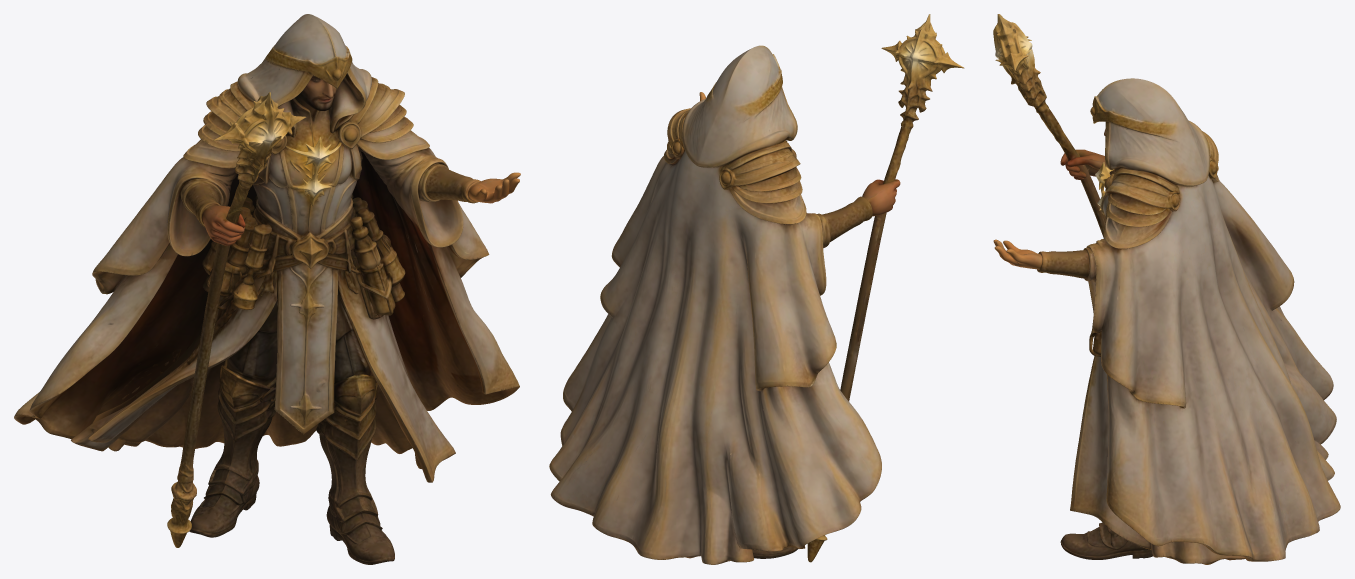
File: cleric_full_male_01.glb
The picture shows the model from 3 angles, left to right: view 1: azimuth 30°, elevation 25°; view 2: azimuth 150°, elevation 25°; view 3: azimuth 270°, elevation 25°; orthographic projection. The views are drawn at different scales.
Visible parts, largest first — view 1: material; view 2: material; view 3: material.
Boxes of the visible parts, x1,y1,x2,y2 form: material: (14, 14, 520, 564); material: (549, 14, 964, 564); material: (993, 14, 1340, 564).
Size of the model in its own units: 0.7591 by 0.9406 by 0.6241.
Materials: 1 (1 with a texture image).
